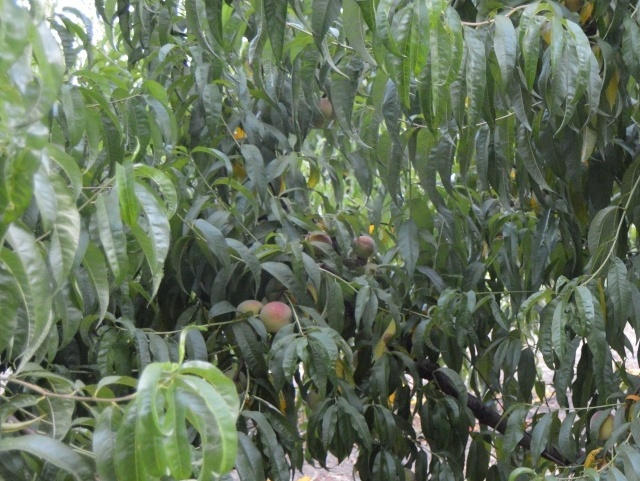peach: (256, 299, 295, 333), (234, 295, 268, 328), (585, 408, 618, 440), (348, 232, 378, 260), (306, 228, 333, 253)
